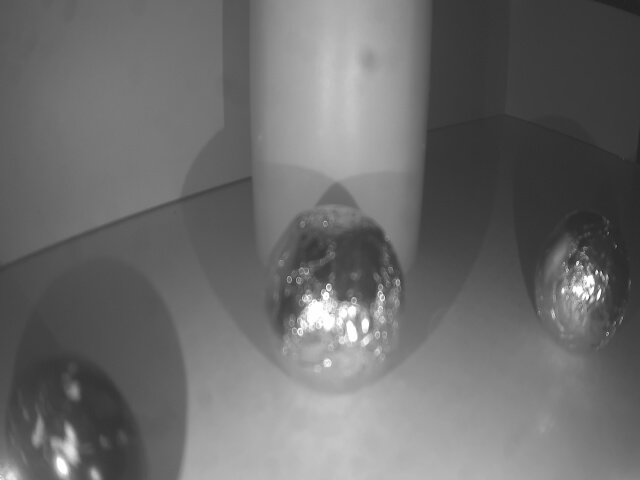Dead: (0, 353, 158, 480)
Live: (259, 199, 406, 395), (532, 203, 635, 357)
